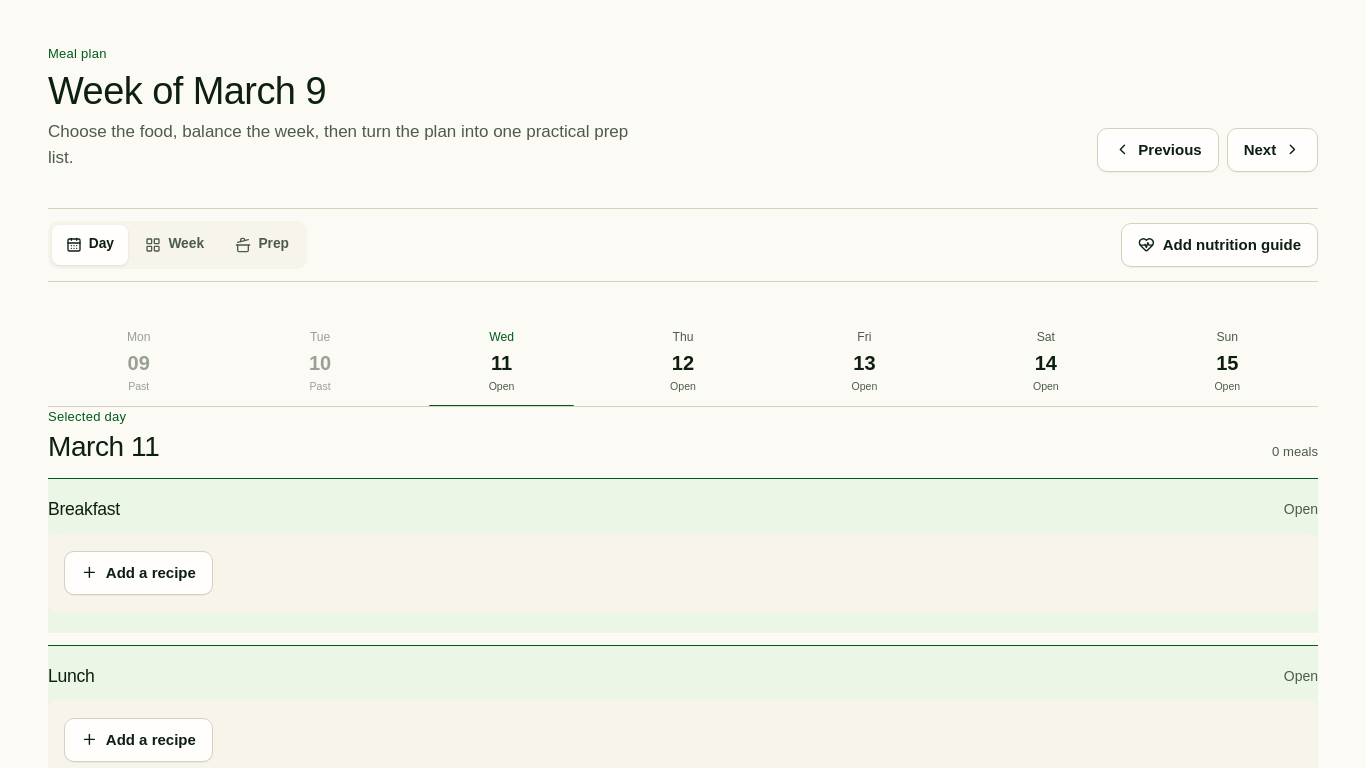
Test case: goal and weekly planning UI › lets someone plan meals before creating a nutrition guide
The width and height of the screenshot is (1366, 768).
Expected: the heading "Week of March 9" is shown, [48,70,326,112]
Expected: the number of links "Add nutrition guide" is 1, [1121,223,1318,267]
Click the tab "Day".
click(90, 245)  # box [52,225,128,265]
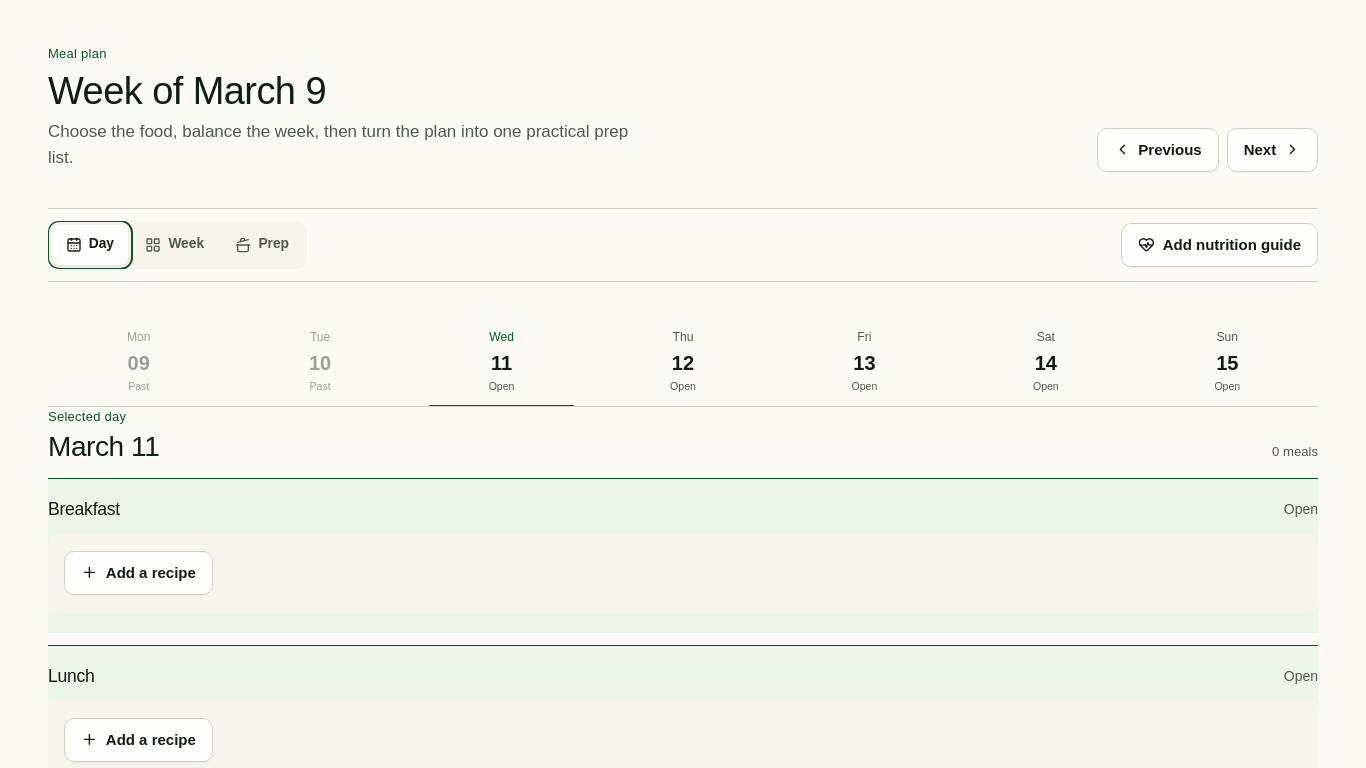
Click the button with aria-label "Add a recipe to Lunch".
click(138, 740)  # box [64,718,213,762]
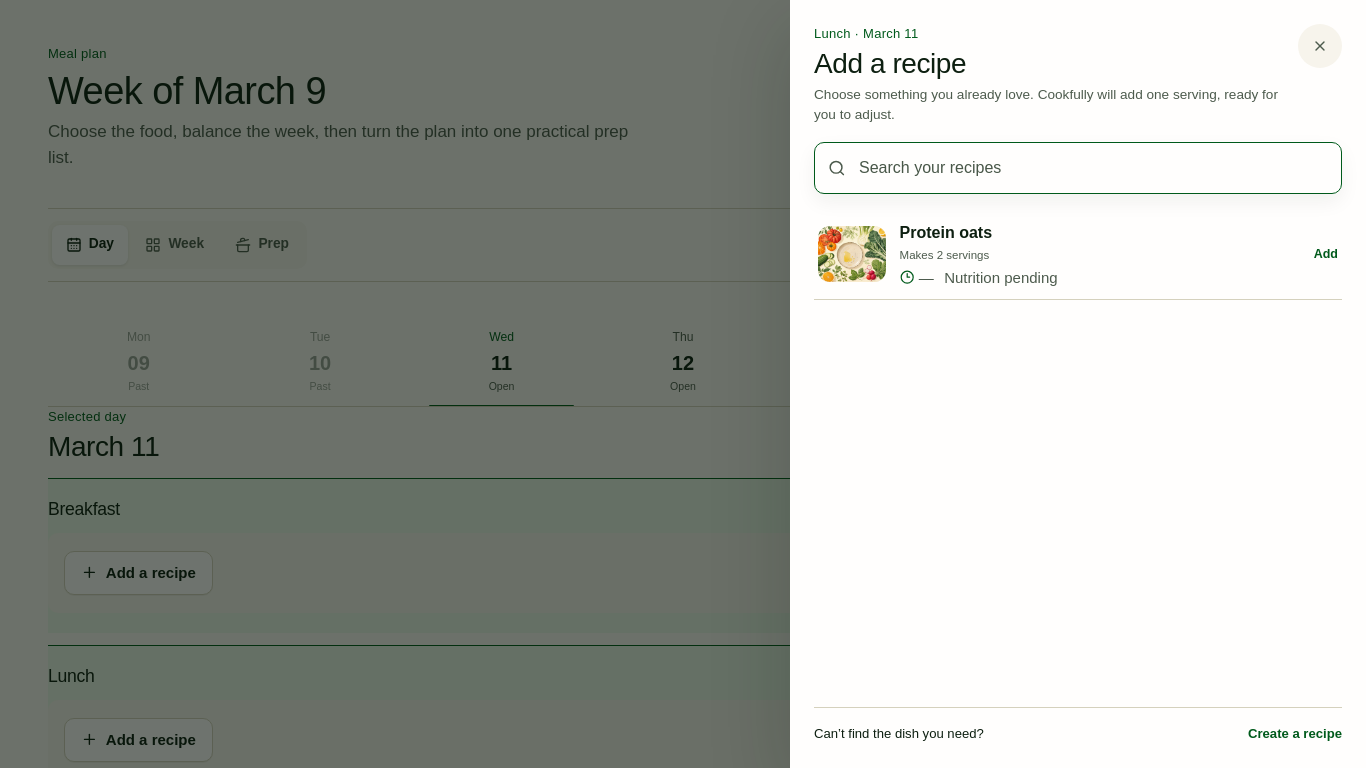
Click the button with aria-label "Add Protein oats to Lunch".
click(852, 254)  # box [814,210,1342,300]
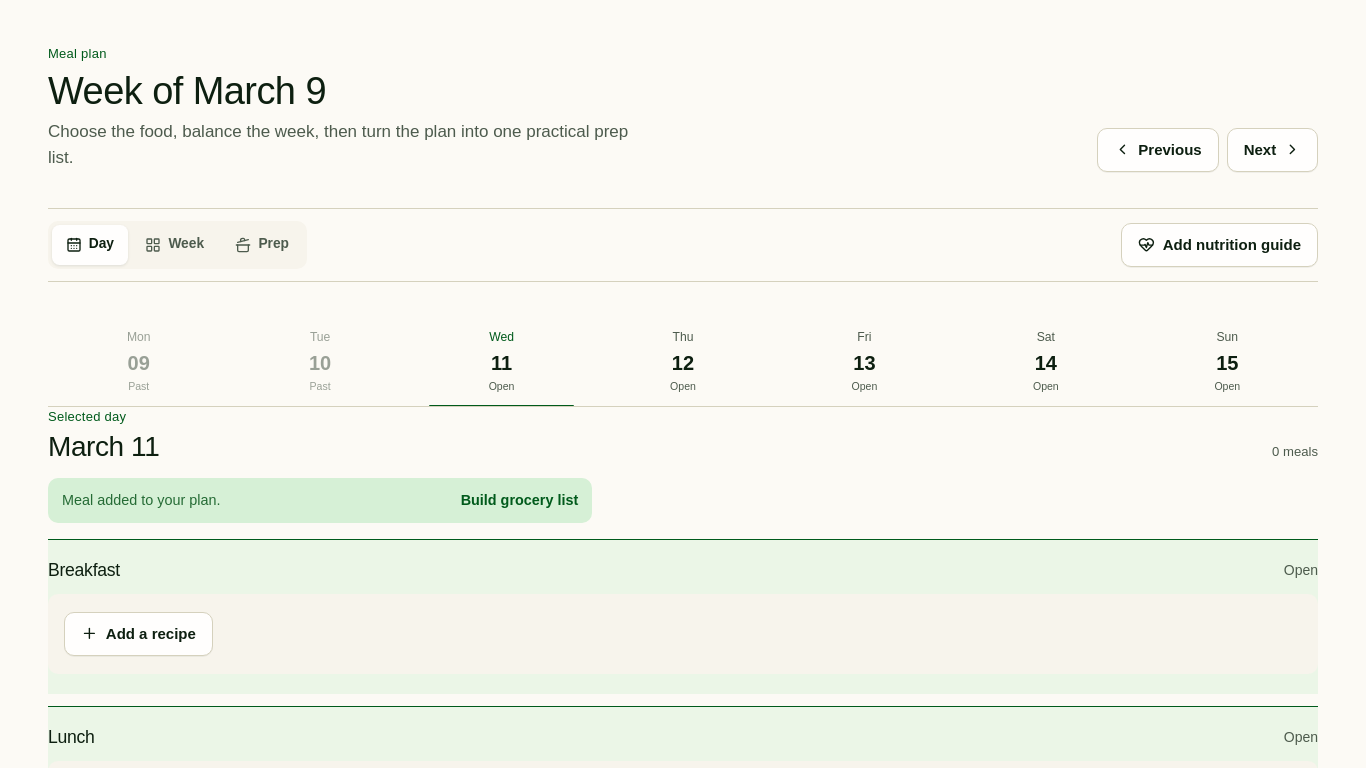
Result: the text "Meal added to your plan." is shown at [62,490,220,511]
